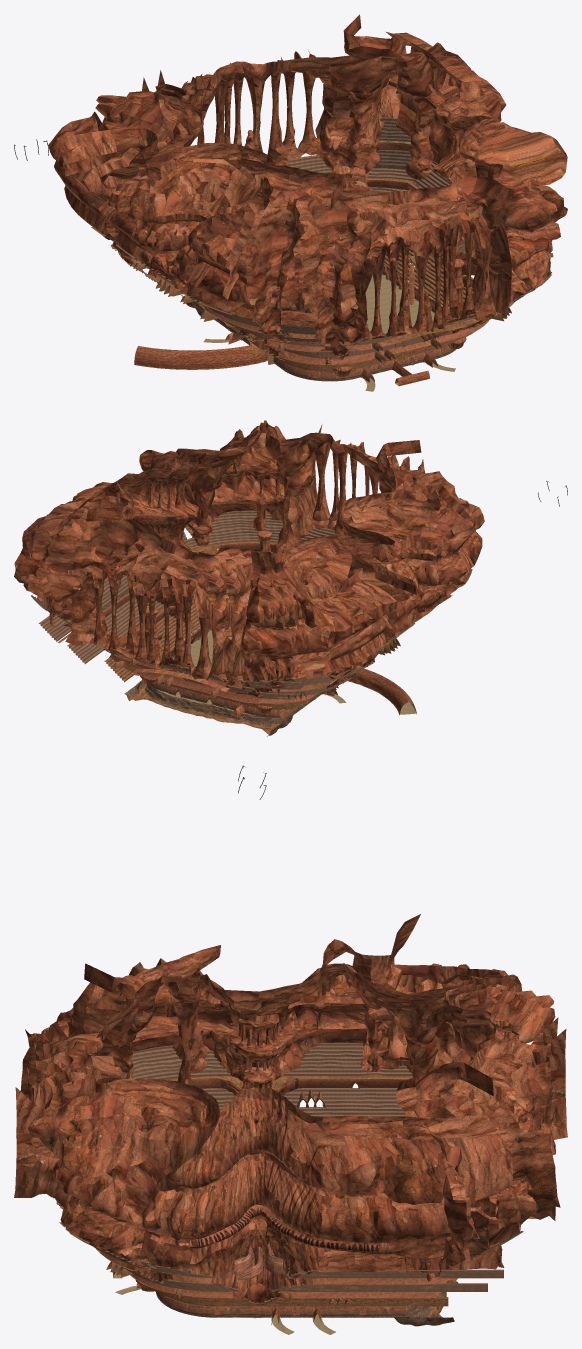
Rendered from geonosis_arena-v1.glb.
The picture shows the model from 3 angles, top to bottom: view 1: azimuth 30°, elevation 25°; view 2: azimuth 150°, elevation 25°; view 3: azimuth 270°, elevation 25°; orthographic projection. The views are drawn at different scales.
Parts seen in each view (by area): view 1: RockSidingP1.001, RockSidingP1, RockSidingP2, RockSidingP3, FrontEntrance.066, Stairs.006, Stairs.004, Floor.002, Stairs.007, WallsArena.041, Stairs.003, RockSidingP3.001 (+1 smaller); view 2: RockSidingP1.001, RockSidingP1, RockSidingP2, Stairs.008, RockSidingP3, Stairs.009, Stairs.006, Floor, FrontEntrance.066, Stairs.004, Floor.002, Floor.001 (+2 smaller); view 3: RockSidingP1.001, RockSidingP2, RockSidingP1, Stairs.003, RockSidingP3, Stairs.009, Stairs.006, WallsArena.041, Stairs.005, RockSidingP2.014, Stairs.008.
Part boxes in pixels (x1=…): RockSidingP1.001: x1=48, y1=14, x2=550, y2=344; RockSidingP1: x1=184, y1=118, x2=567, y2=361; RockSidingP2: x1=416, y1=42, x2=567, y2=297; RockSidingP3: x1=148, y1=142, x2=513, y2=364; FrontEntrance.066: x1=134, y1=345, x2=265, y2=369; Stairs.006: x1=247, y1=247, x2=489, y2=371; Stairs.004: x1=262, y1=155, x2=479, y2=358; Floor.002: x1=136, y1=274, x2=455, y2=391; Stairs.007: x1=277, y1=114, x2=411, y2=342; WallsArena.041: x1=199, y1=262, x2=456, y2=381; Stairs.003: x1=91, y1=168, x2=414, y2=346; RockSidingP3.001: x1=133, y1=255, x2=511, y2=367; RockSidingP1.001: x1=14, y1=481, x2=482, y2=697; RockSidingP1: x1=176, y1=420, x2=484, y2=611; RockSidingP2: x1=14, y1=448, x2=198, y2=625; Stairs.008: x1=183, y1=510, x2=373, y2=699; RockSidingP3: x1=65, y1=542, x2=433, y2=703; Stairs.009: x1=38, y1=575, x2=163, y2=663; Stairs.006: x1=104, y1=598, x2=311, y2=709; Floor: x1=124, y1=680, x2=293, y2=732; FrontEntrance.066: x1=347, y1=668, x2=416, y2=714; Stairs.004: x1=96, y1=526, x2=347, y2=693; Floor.002: x1=156, y1=630, x2=416, y2=715; Floor.001: x1=129, y1=684, x2=289, y2=736; RockSidingP1.001: x1=60, y1=914, x2=567, y2=1281; RockSidingP2: x1=155, y1=1087, x2=478, y2=1305; RockSidingP1: x1=14, y1=945, x2=243, y2=1284; Stairs.003: x1=201, y1=1042, x2=441, y2=1278; RockSidingP3: x1=97, y1=1076, x2=536, y2=1298; Stairs.009: x1=272, y1=1269, x2=503, y2=1291; Stairs.006: x1=130, y1=1274, x2=457, y2=1308; WallsArena.041: x1=156, y1=1292, x2=417, y2=1317; Stairs.005: x1=131, y1=1045, x2=230, y2=1079; RockSidingP2.014: x1=196, y1=1204, x2=378, y2=1252; Stairs.008: x1=59, y1=1222, x2=245, y2=1291.
Bounding box in the file's own units: 119367 × 61116 × 92993.
60 materials, 54 textured.
